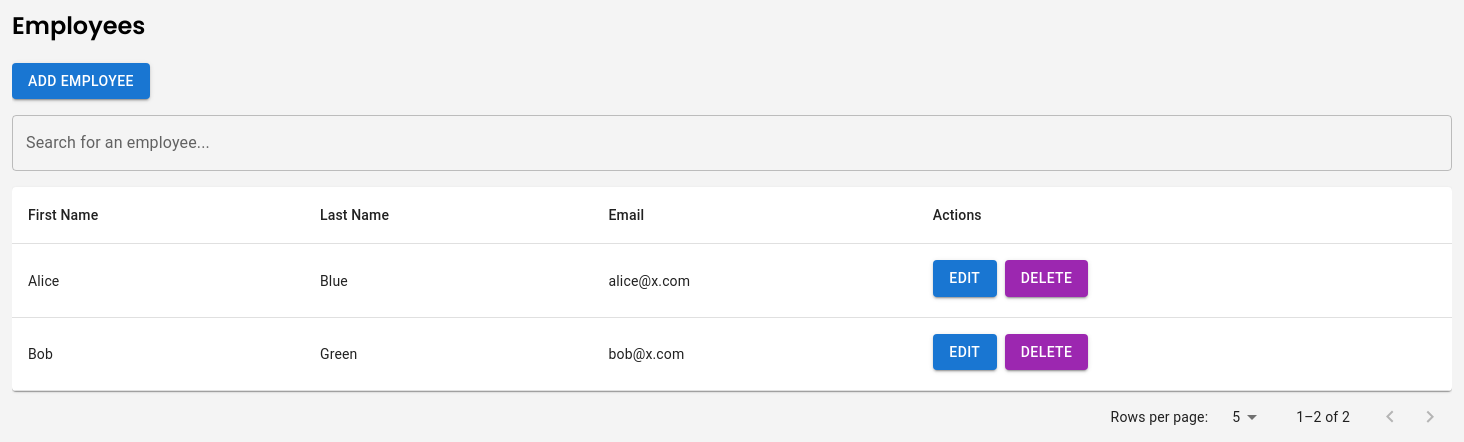
Test: <EmployeeList /> › deletes an employee when Delete is clicked
The image size is (1464, 442).
Check: the text "Alice" is shown, box top-left (12, 244), bottom-right (304, 317)
// click the first Delete button
Click the button "Delete" in the row of "Blue" at x=1047, y=279, box top-left (1005, 260), bottom-right (1088, 297)
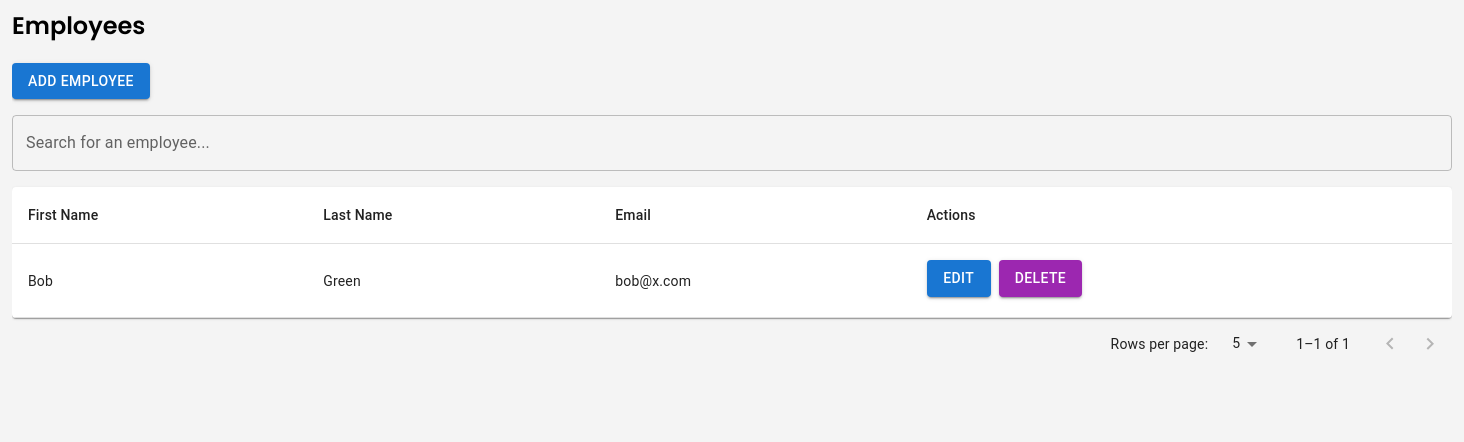
Check: the text "Bob" is shown, box top-left (12, 244), bottom-right (307, 317)
Check: the text "Alice" is gone
